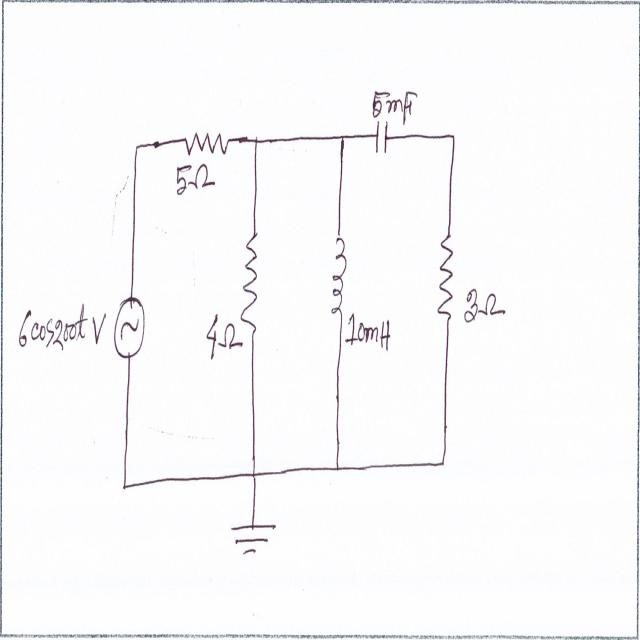ac_current: (112, 292, 146, 362)
capacitor: (375, 117, 390, 162)
ground: (225, 520, 279, 557)
inductor: (330, 229, 347, 323)
resistor: (241, 227, 259, 337), (436, 230, 454, 322), (183, 130, 233, 162)
